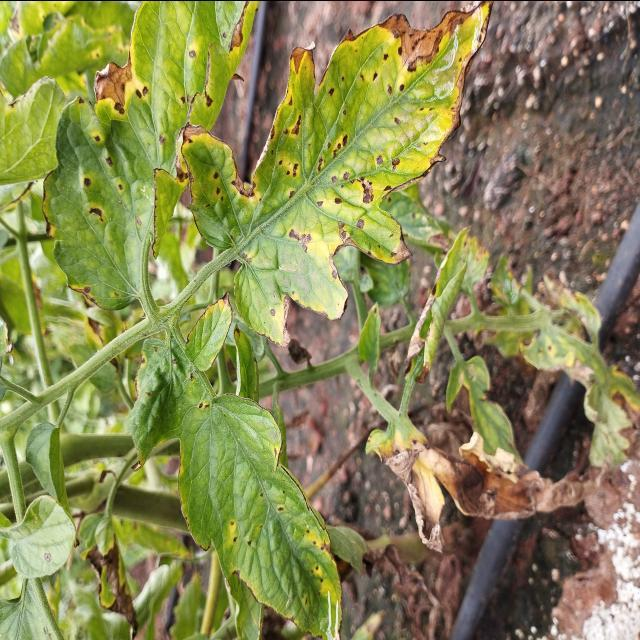Tomato mosaic virus leaf: (39, 1, 252, 314), (252, 0, 430, 352), (174, 384, 348, 640), (361, 414, 454, 560), (120, 328, 188, 476)
